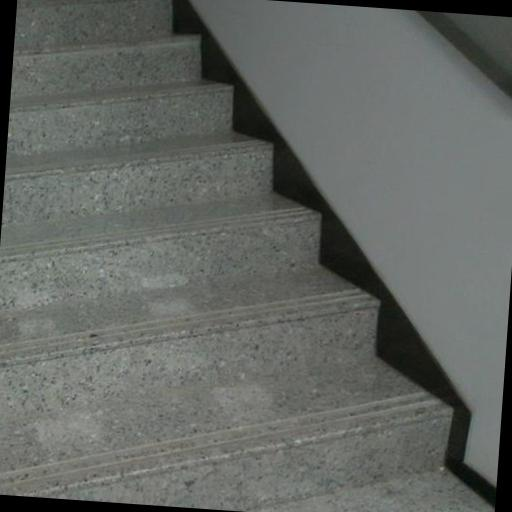stairs: (0, 0, 468, 511)
